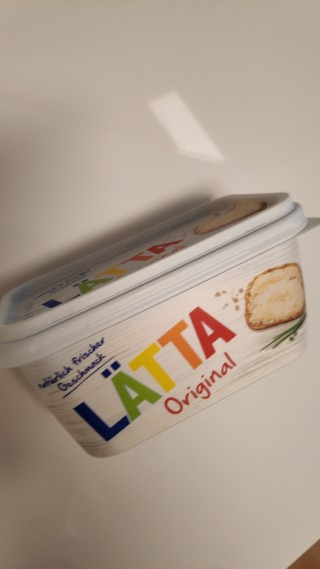laetta: (1, 190, 320, 458)
